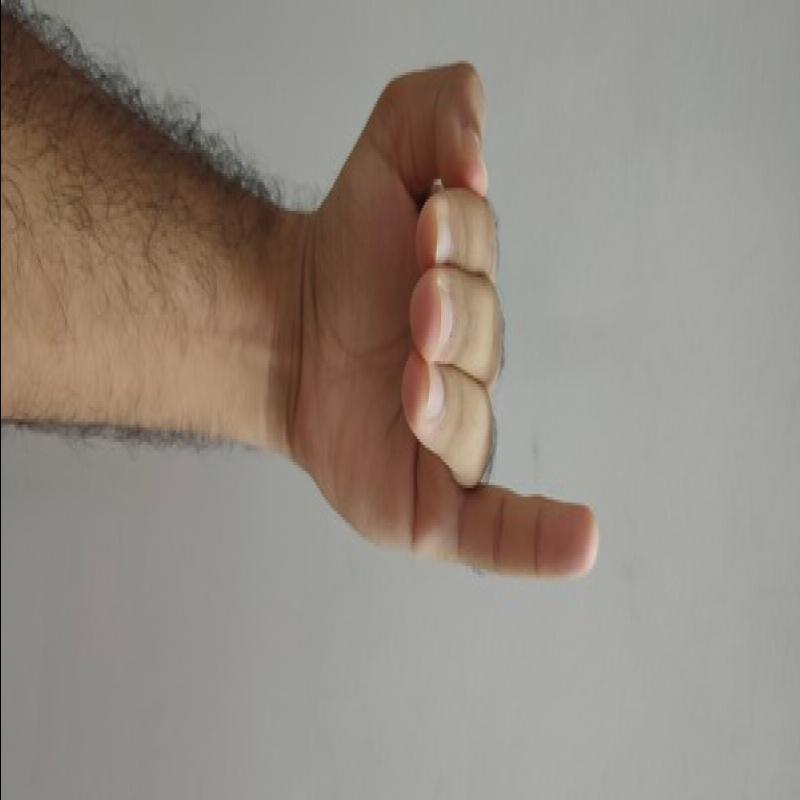Kartharee Mukham: (274, 56, 646, 597)
